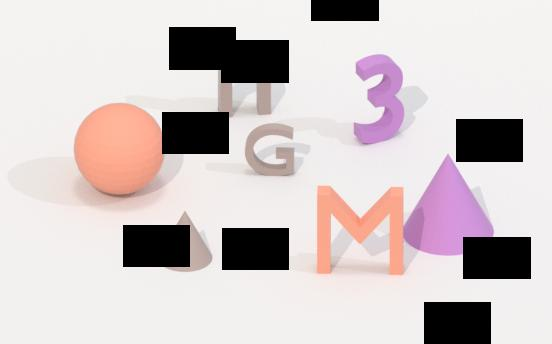3: (350, 54, 411, 145)
G-hoa: (241, 121, 303, 179)
M-hoa: (315, 184, 407, 281)
cau: (67, 105, 173, 198)
h: (210, 29, 288, 120)
non: (401, 159, 497, 254), (154, 210, 221, 276)
